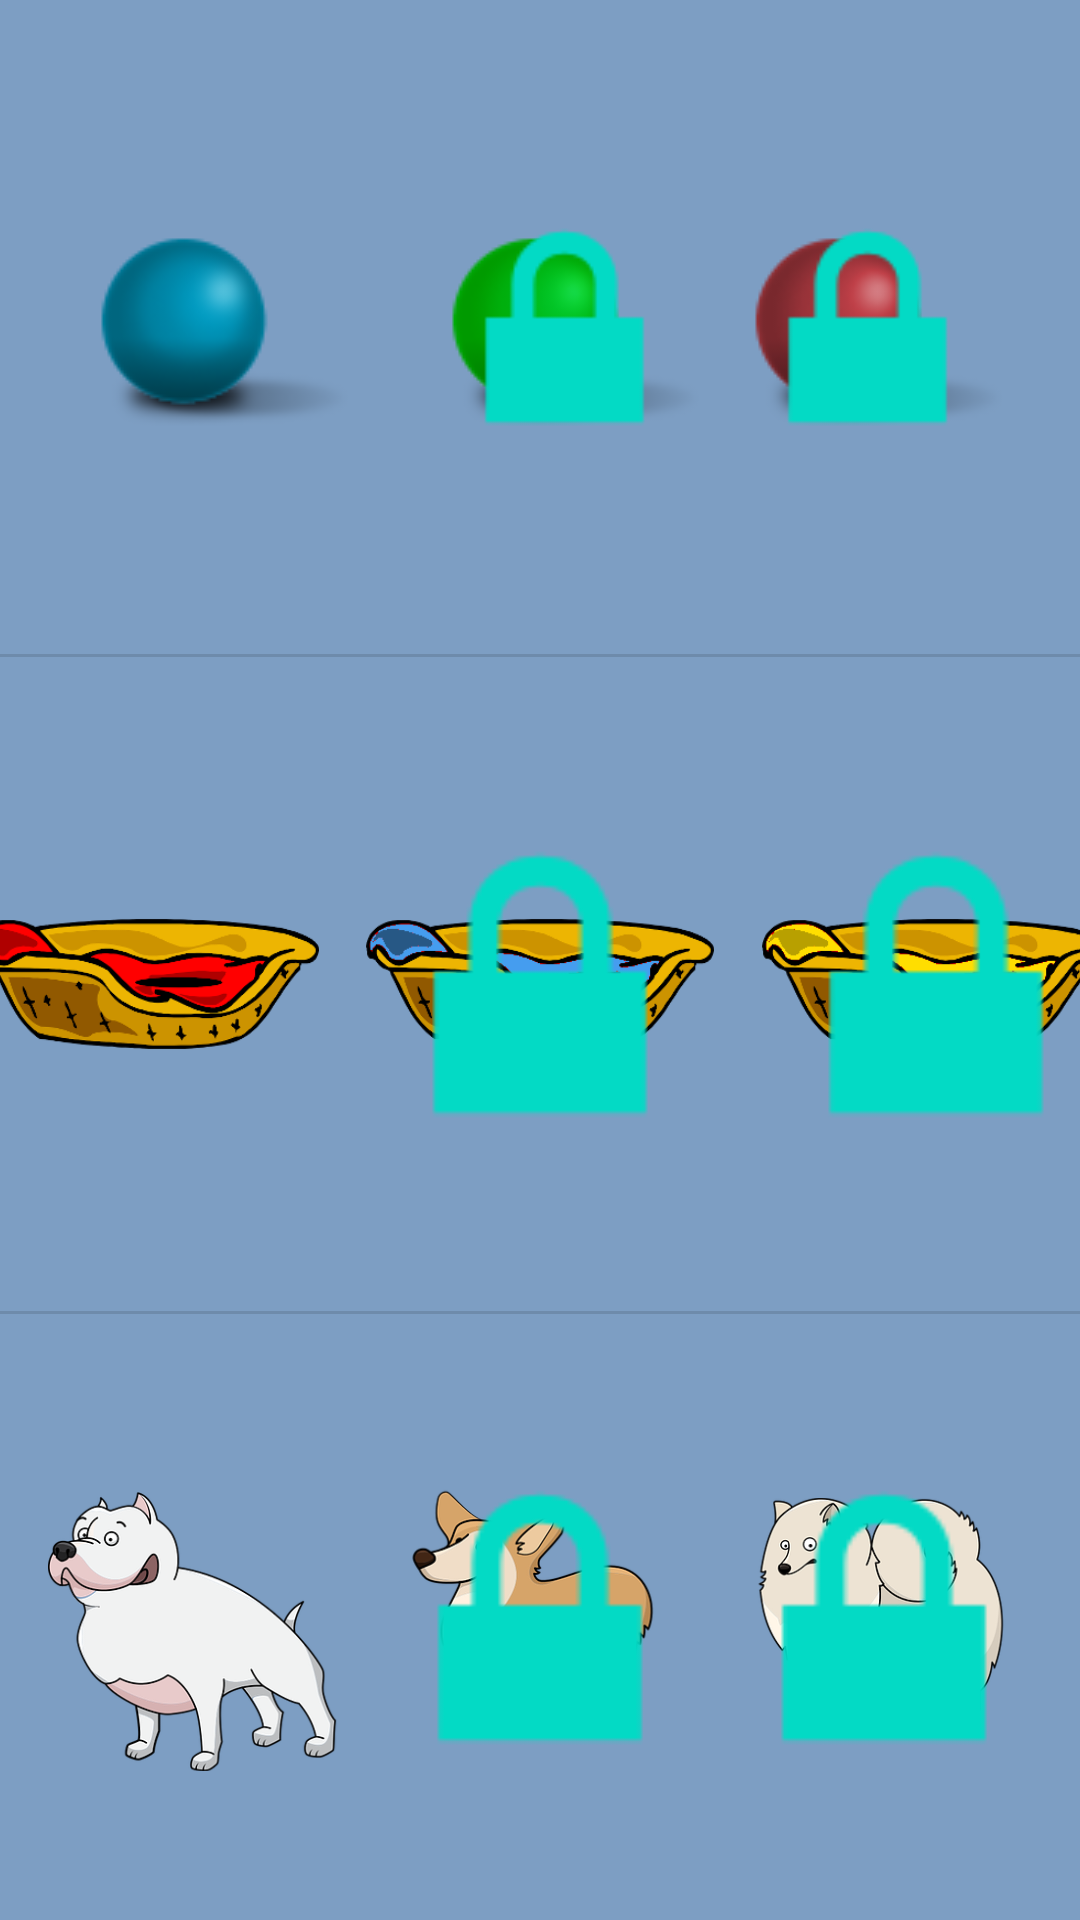

Point at icon controls on the screen. Image size 1080px×1920px, points as point (x, y).
bulldog: point (192, 1631)
